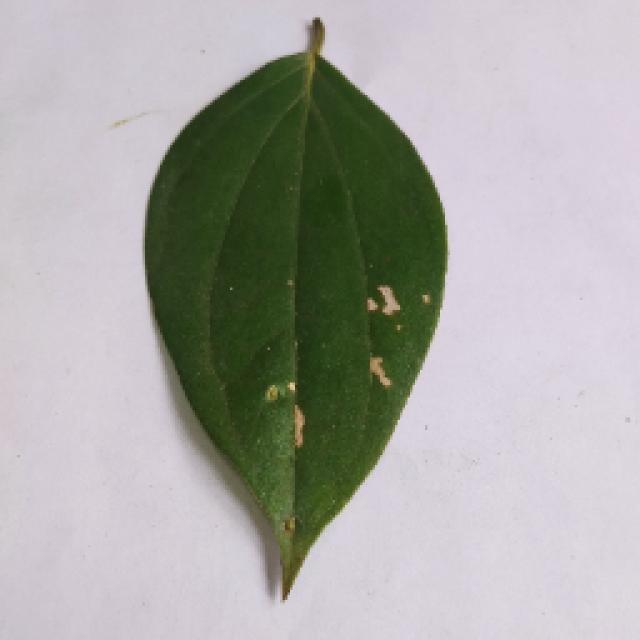pollu-disease: (140, 22, 445, 600)
